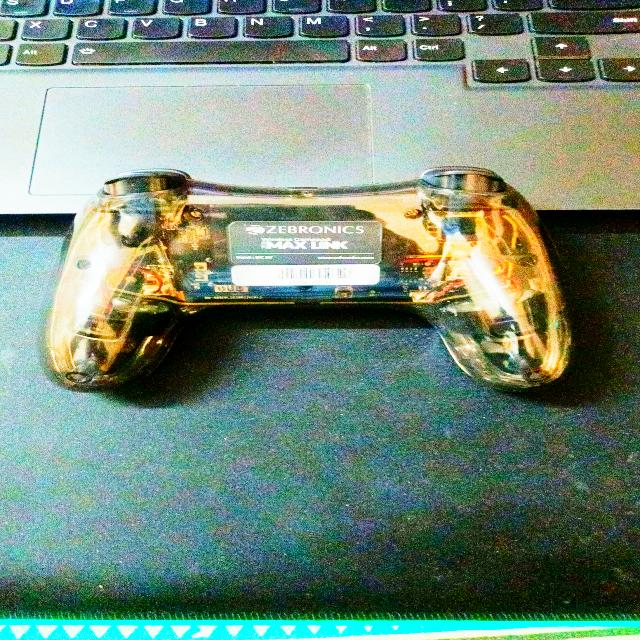gamepad: (44, 165, 574, 392)
